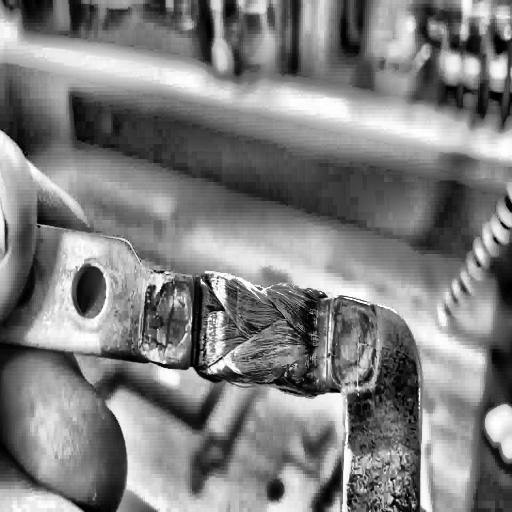busbar: (0, 214, 452, 512)
